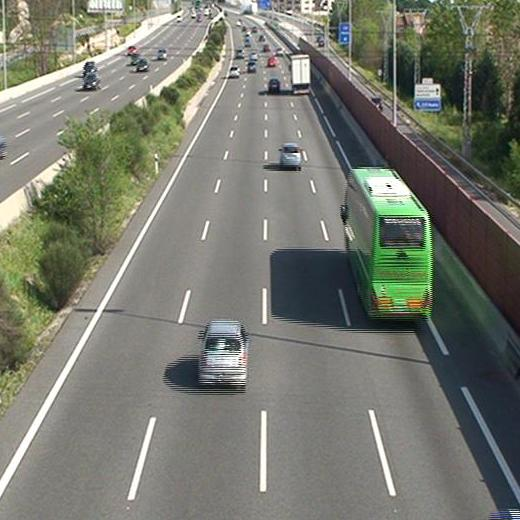bus: (343, 169, 432, 321)
car: (198, 321, 246, 385), (280, 145, 301, 169), (267, 79, 279, 92), (229, 66, 240, 78), (247, 61, 257, 71), (265, 57, 275, 66)
small-truck: (289, 54, 311, 93)
